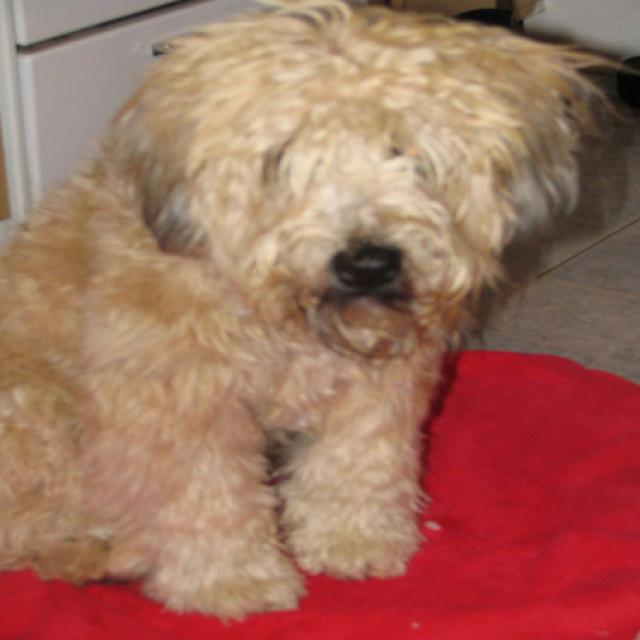dog: (124, 19, 566, 356)
